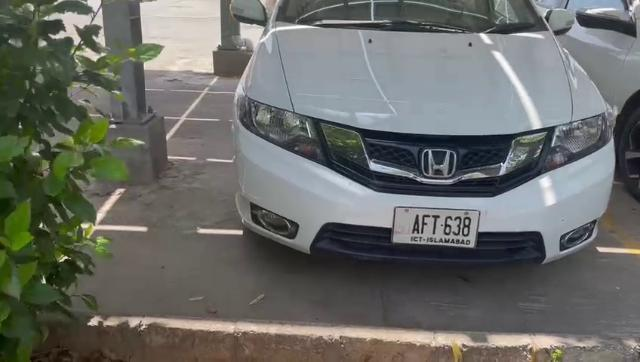plate: (391, 205, 489, 251)
